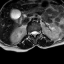CCS_normal: (33, 28, 35, 39)
LFS_normal: (37, 29, 39, 36)
LLS_normal: (35, 29, 37, 36)
RFS_normal: (28, 29, 30, 36)
RLS_normal: (30, 29, 33, 36)
